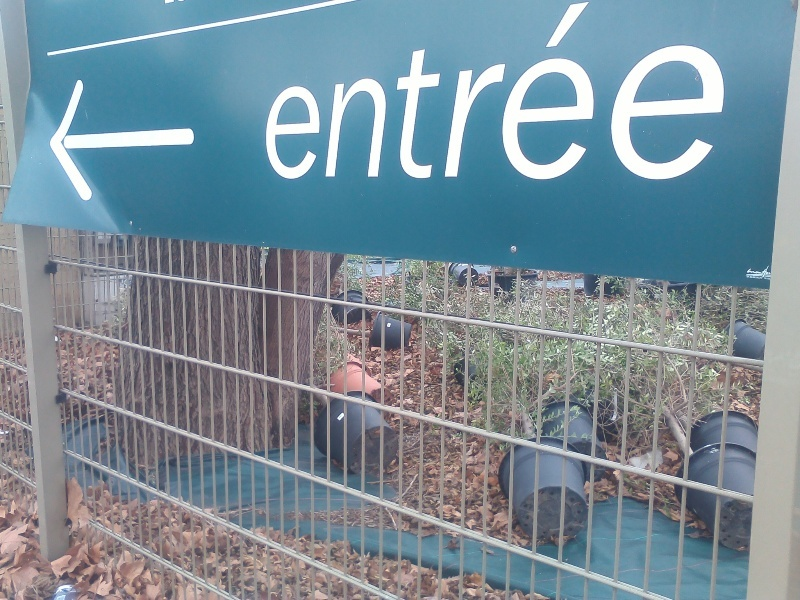text: (289, 1, 304, 184), (305, 1, 320, 184), (321, 1, 336, 184), (337, 1, 352, 184), (353, 1, 368, 184), (369, 1, 384, 184), (385, 1, 400, 184), (401, 1, 416, 184), (417, 1, 432, 184), (433, 1, 448, 184), (449, 1, 464, 184), (465, 1, 480, 184), (481, 1, 496, 184), (497, 1, 512, 184), (513, 1, 528, 184), (529, 1, 544, 184), (545, 1, 560, 184), (561, 1, 576, 184), (577, 1, 592, 184), (593, 1, 608, 184), (609, 1, 624, 184), (625, 1, 640, 184), (641, 1, 656, 184), (657, 1, 672, 184), (673, 1, 688, 184), (689, 1, 704, 184), (705, 1, 720, 184), (721, 1, 734, 184), (276, 1, 288, 184), (753, 264, 768, 278), (753, 275, 768, 281), (748, 264, 752, 278), (769, 264, 772, 278), (746, 275, 752, 281), (769, 275, 772, 281)
